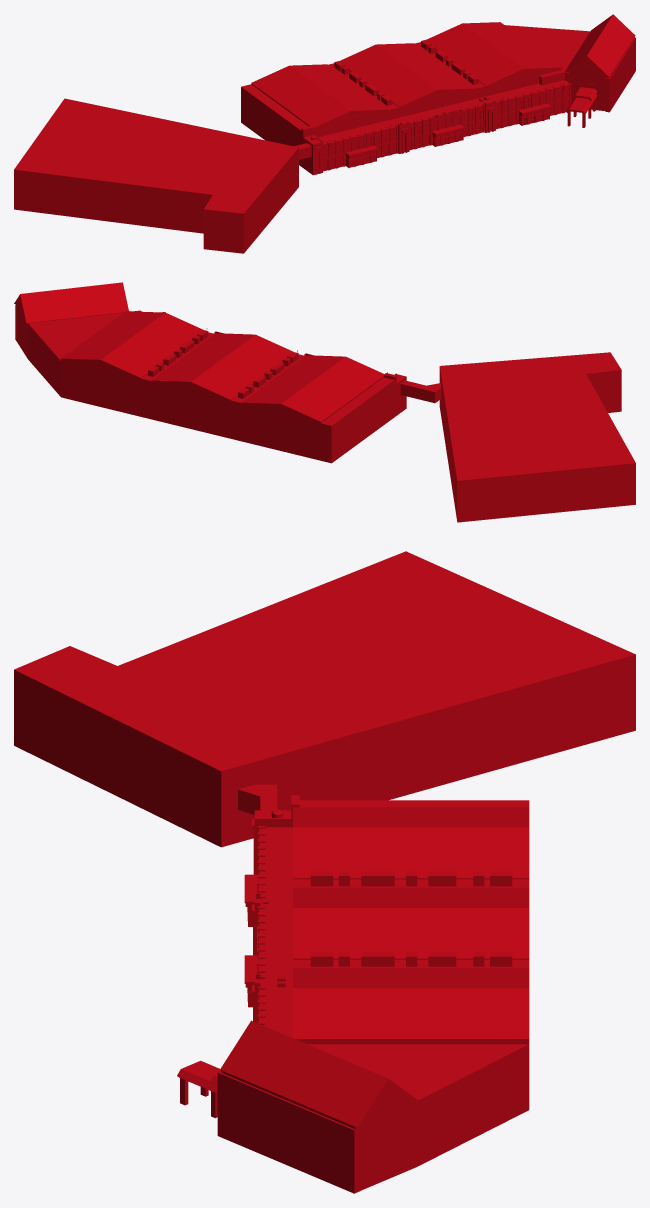
The model's file is bmo_large.glb.
The picture shows the model from 3 angles, top to bottom: view 1: azimuth 30°, elevation 25°; view 2: azimuth 150°, elevation 25°; view 3: azimuth 270°, elevation 25°; orthographic projection. The views are drawn at different scales.
Visible parts, largest first — view 1: BMO CENTRE; view 2: BMO CENTRE; view 3: BMO CENTRE.
Boxes of the visible parts, x1=… form: BMO CENTRE: x1=14, y1=14, x2=635, y2=253; BMO CENTRE: x1=14, y1=282, x2=635, y2=522; BMO CENTRE: x1=14, y1=551, x2=635, y2=1193.
Size of the model in its own units: 60.82 by 5.11 by 28.21.
